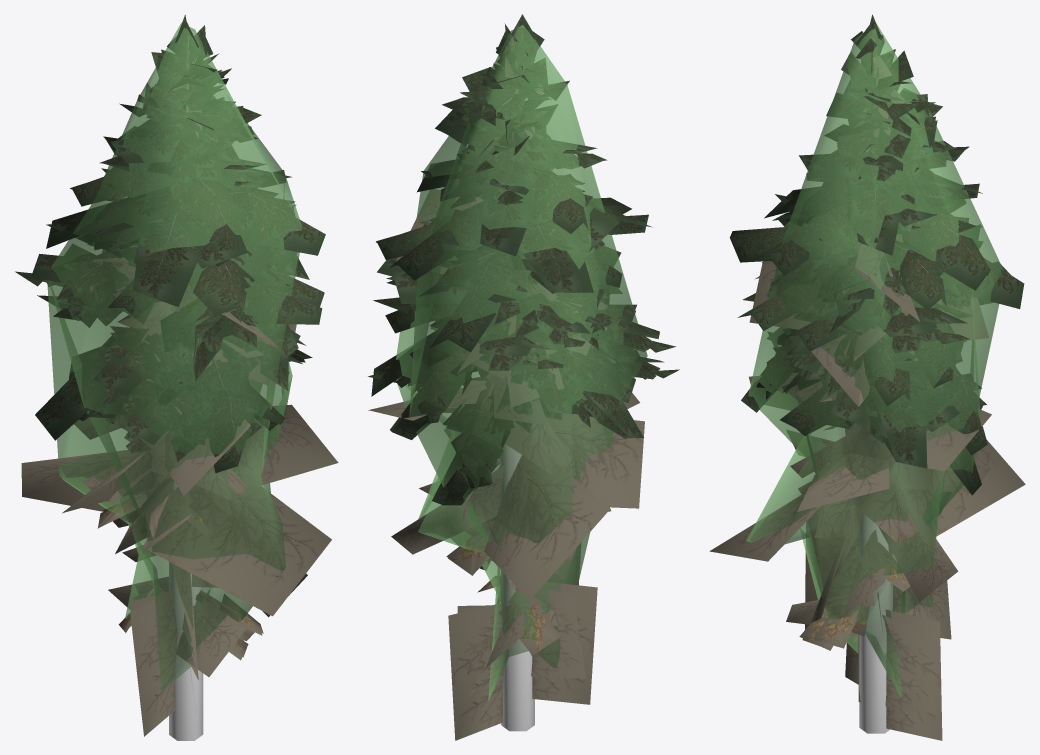
The model's file is tree_douglasfir_large_c.dae.
The picture shows the model from 3 angles, left to right: view 1: azimuth 30°, elevation 25°; view 2: azimuth 150°, elevation 25°; view 3: azimuth 270°, elevation 25°; orthographic projection.
Visible parts, largest first — view 1: Colmesh_large_c-1, tree_douglasfir_large_c_a500, tree_douglasfir_large_c_a1800, tree_douglasfir_large_c_a1000; view 2: Colmesh_large_c-1, tree_douglasfir_large_c_a500, tree_douglasfir_large_c_a1800, tree_douglasfir_large_c_a1000; view 3: Colmesh_large_c-1, tree_douglasfir_large_c_a1800, tree_douglasfir_large_c_a500, tree_douglasfir_large_c_a1000.
Part boxes in pixels (x1,y1,x2,y2): Colmesh_large_c-1: [47, 23, 302, 740]; tree_douglasfir_large_c_a500: [31, 21, 338, 680]; tree_douglasfir_large_c_a1800: [15, 14, 325, 712]; tree_douglasfir_large_c_a1000: [62, 53, 312, 736]; Colmesh_large_c-1: [396, 25, 647, 731]; tree_douglasfir_large_c_a500: [368, 31, 664, 740]; tree_douglasfir_large_c_a1800: [368, 14, 679, 696]; tree_douglasfir_large_c_a1000: [376, 20, 659, 667]; Colmesh_large_c-1: [746, 23, 1003, 733]; tree_douglasfir_large_c_a1800: [730, 14, 1024, 713]; tree_douglasfir_large_c_a500: [709, 31, 1025, 648]; tree_douglasfir_large_c_a1000: [741, 21, 1025, 740].
Bounding box in the file's own units: 7.37 × 7.54 × 18.7.
